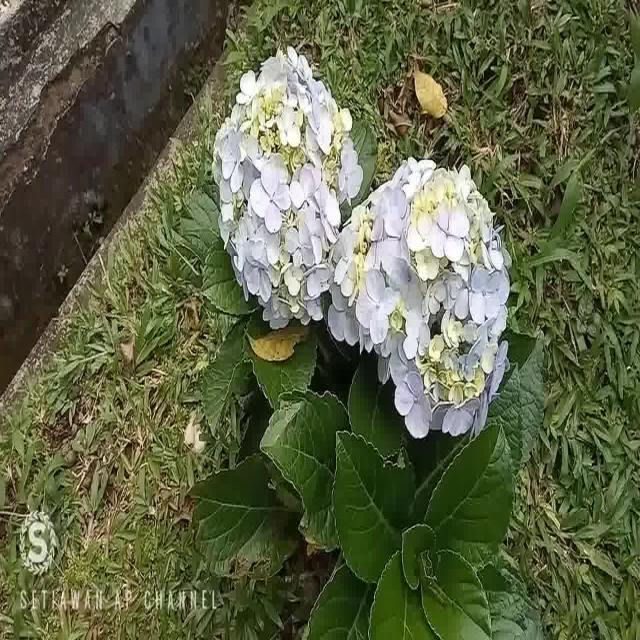Flower: (334, 153, 510, 435), (213, 40, 357, 345)
